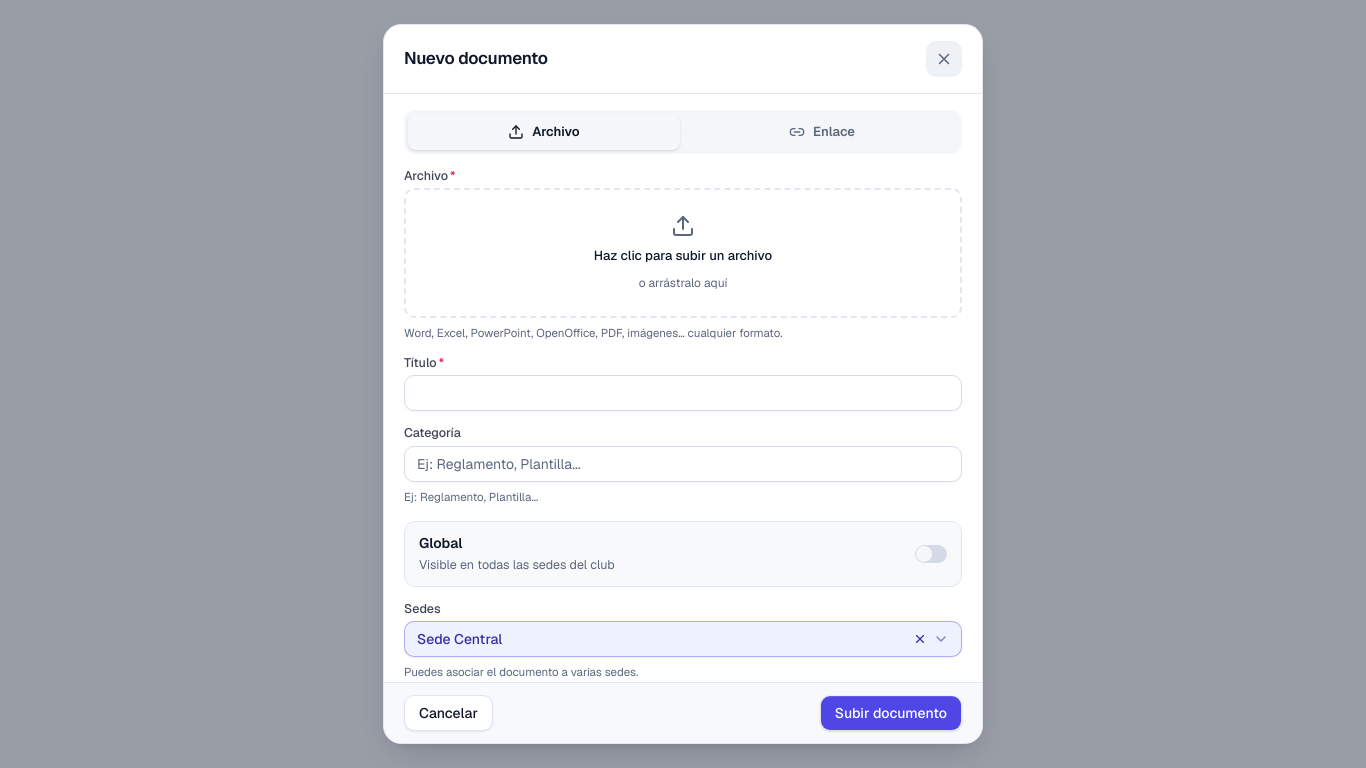
Test: DocumentoForm › con Global consulta los entrenadores de todas las sedes y oculta los equipos
Click the switch named "global": (931, 554) [915,545,947,563]
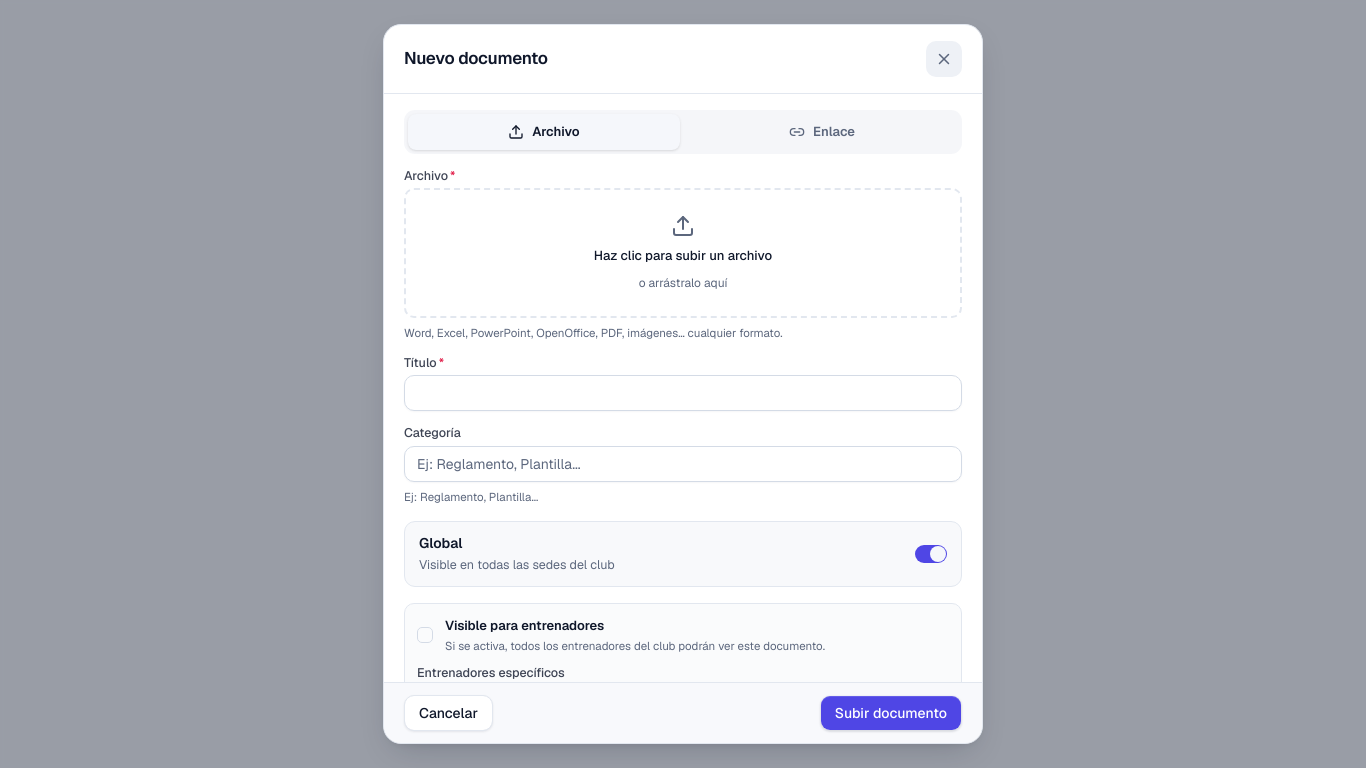
Expected: the text "Equipos" is not shown
Now the text "todos los entrenadores del club podrán ver este documento" is shown, box [445,638,825,653]
